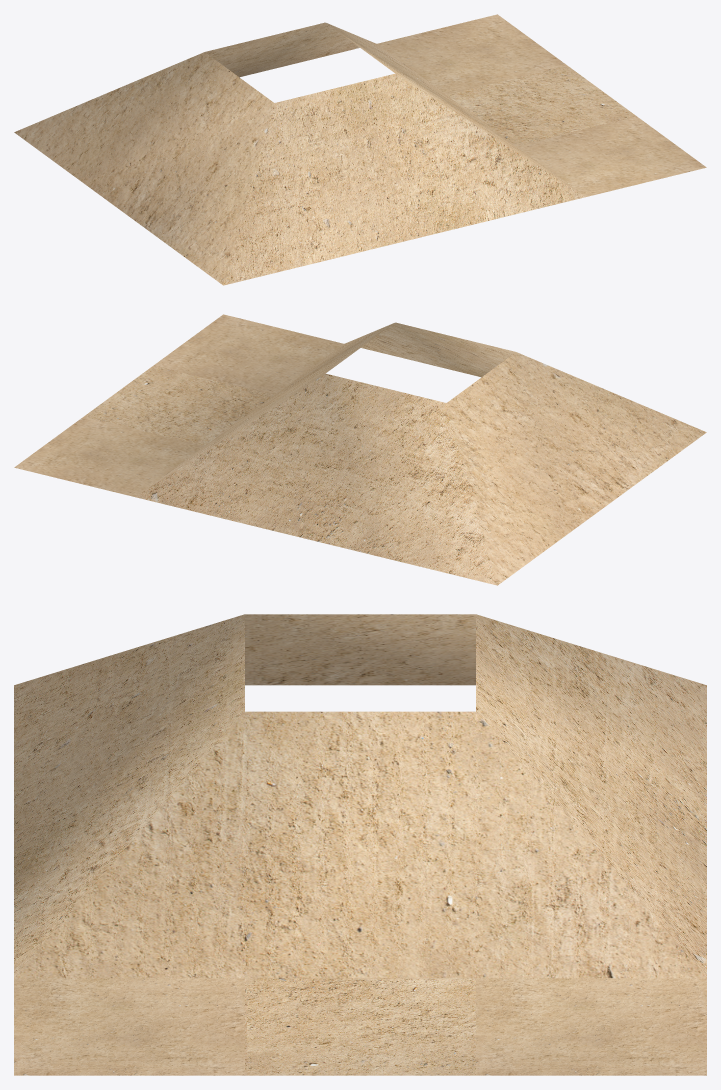
Rendered from Trap_Cieling.dae.
3 views of the same model, one above another, from view 1: azimuth 30°, elevation 25°; view 2: azimuth 150°, elevation 25°; view 3: azimuth 270°, elevation 25° (orthographic). The views are drawn at different scales.
Parts seen in each view (by area): view 1: pPlane1; view 2: pPlane1; view 3: pPlane1.
Boxes of the visible parts, x1,y1,x2,y2 form: pPlane1: (14,14,706,285); pPlane1: (14,314,706,585); pPlane1: (14,614,706,1075).
Size of the model in its own units: 12 by 2.42 by 9.
